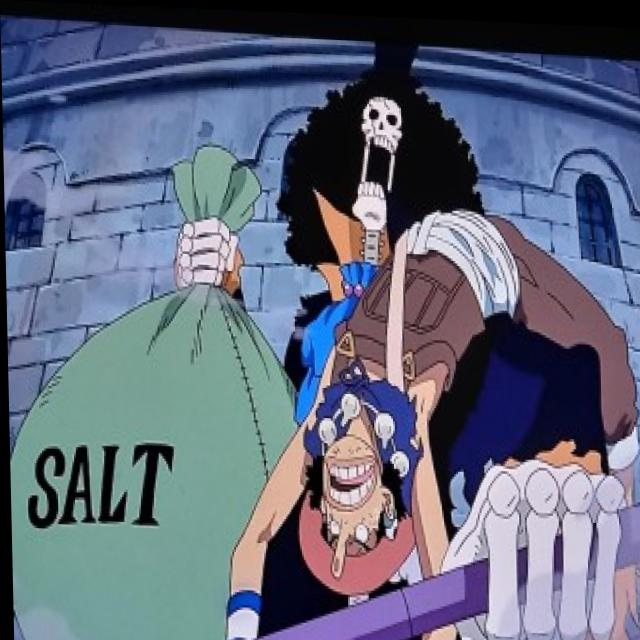Blook: (268, 49, 496, 274)
Usopp: (306, 411, 402, 583)
